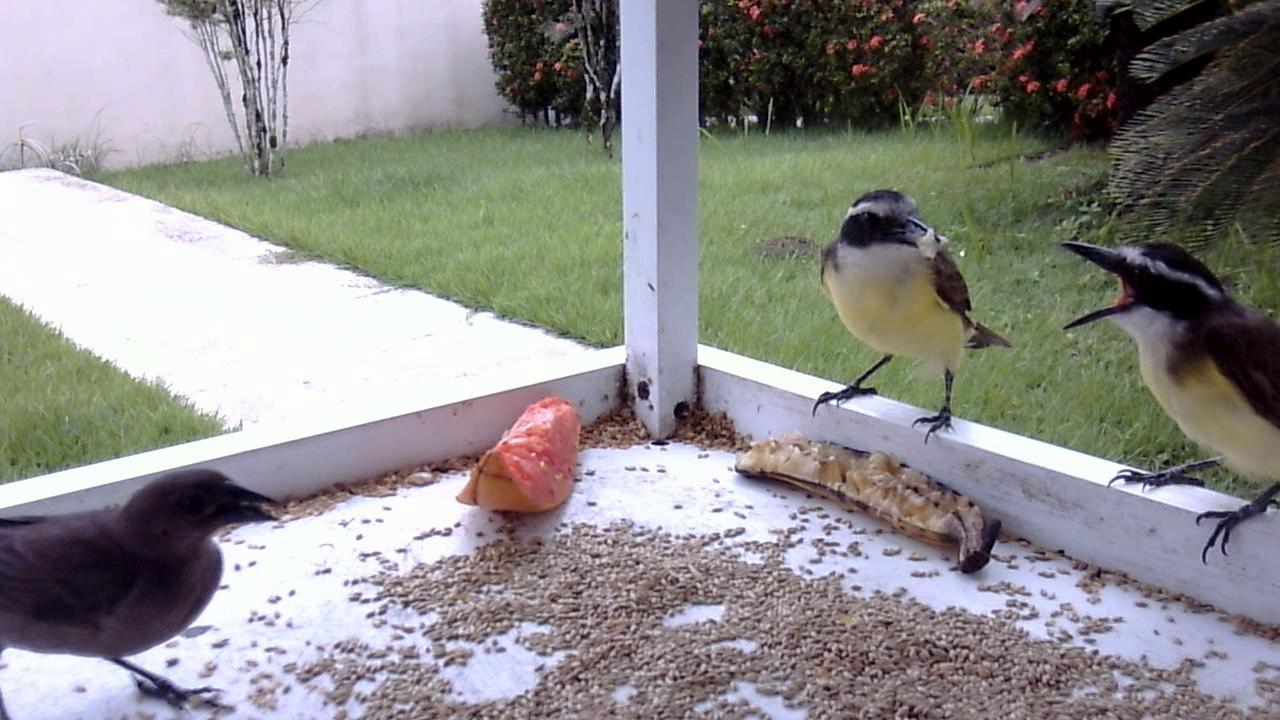bem_te_vi: (1050, 217, 1280, 594), (801, 181, 1018, 454)
chupim: (5, 467, 294, 720)
